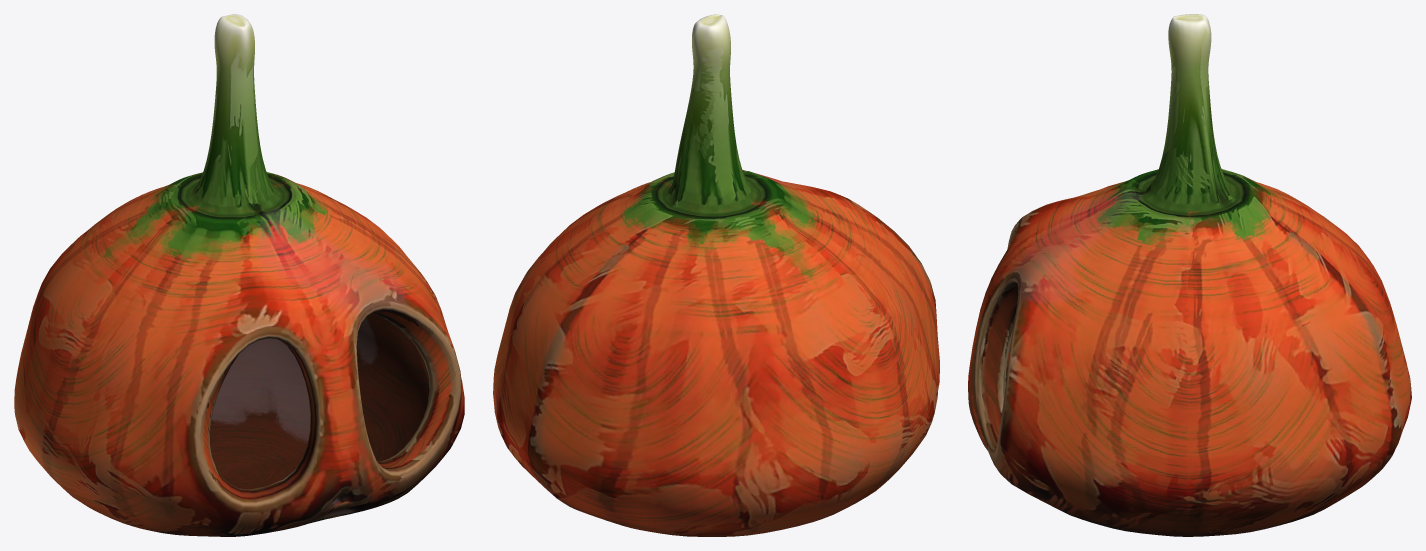
The model's file is Pumpkin_V03.glb.
The picture shows the model from 3 angles, left to right: view 1: azimuth 30°, elevation 25°; view 2: azimuth 150°, elevation 25°; view 3: azimuth 270°, elevation 25°; orthographic projection.
Parts seen in each view (by area): view 1: Pumpkin Model; view 2: Pumpkin Model; view 3: Pumpkin Model.
Part boxes in pixels (x1=…): Pumpkin Model: x1=14, y1=14, x2=464, y2=536; Pumpkin Model: x1=493, y1=14, x2=939, y2=536; Pumpkin Model: x1=968, y1=14, x2=1411, y2=536.
Bounding box in the file's own units: 0.8279 × 0.9878 × 0.8299.
Materials: 1 (1 with a texture image).
